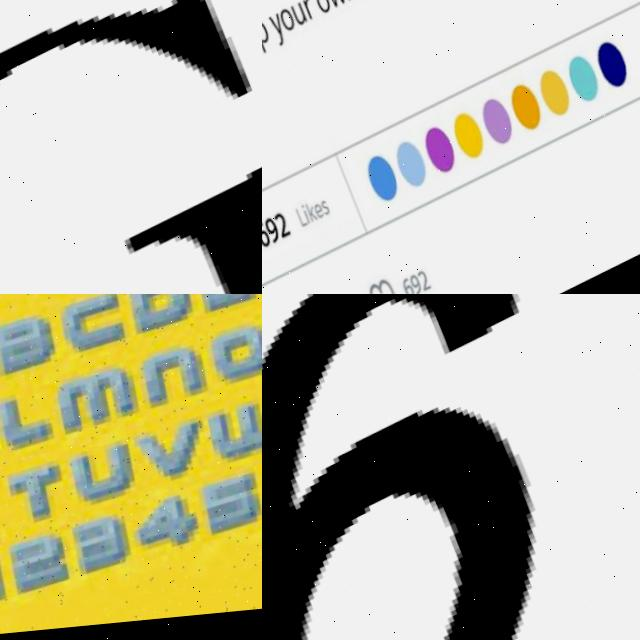1: (0, 541, 15, 609)
2: (0, 516, 85, 611), (262, 222, 273, 253), (401, 282, 417, 294)
5: (263, 217, 284, 251), (409, 279, 424, 294)
6: (262, 294, 640, 640)
E: (313, 206, 326, 226)
G: (0, 0, 262, 294)
I: (301, 207, 313, 233)
K: (305, 205, 319, 229)
L: (295, 208, 310, 234)
N: (339, 0, 359, 9)
O: (277, 9, 297, 39), (312, 0, 333, 22)
P: (262, 22, 274, 58)
R: (300, 0, 316, 25)
S: (320, 202, 333, 223)
U: (290, 5, 309, 34)
W: (323, 0, 347, 15)
Y: (267, 16, 290, 53)
